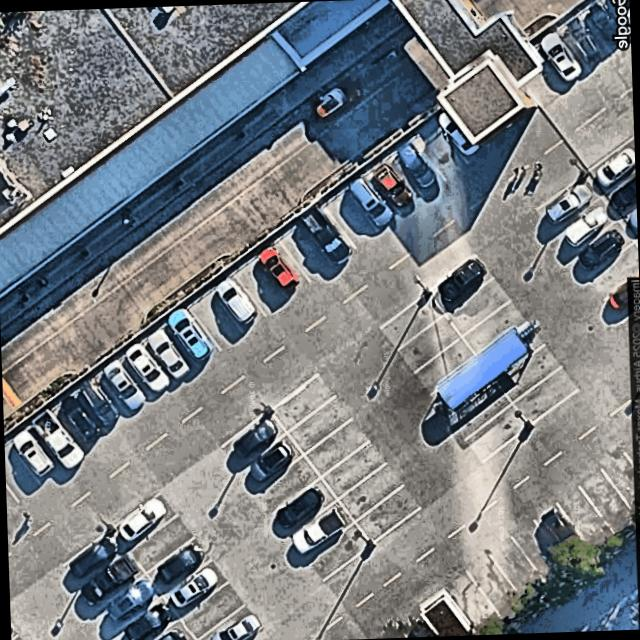car: (29, 406, 87, 471), (77, 551, 140, 609), (299, 204, 356, 266), (288, 503, 348, 557), (164, 305, 218, 362), (345, 174, 398, 230), (123, 340, 175, 397), (100, 575, 159, 625), (99, 355, 150, 412), (558, 200, 616, 250), (432, 254, 488, 305), (538, 507, 586, 566), (144, 326, 194, 382), (69, 532, 124, 582), (537, 29, 586, 85), (210, 273, 260, 327), (243, 436, 296, 486), (55, 391, 104, 445), (118, 596, 178, 640), (165, 564, 221, 611), (367, 159, 416, 212), (9, 425, 57, 479), (115, 496, 170, 543), (73, 376, 120, 430), (272, 484, 326, 530), (541, 179, 595, 225), (393, 138, 439, 192), (433, 107, 479, 159), (589, 140, 635, 191), (154, 542, 206, 585), (579, 226, 627, 272), (231, 417, 280, 458), (256, 245, 299, 291), (205, 608, 265, 640), (583, 1, 624, 45), (562, 18, 601, 62), (607, 175, 636, 214), (610, 274, 639, 312), (605, 0, 630, 31), (150, 623, 189, 640)
lot_boundary: (4, 0, 640, 640)
objects: (431, 315, 548, 415), (415, 588, 483, 636)
stall: (466, 554, 531, 626), (532, 505, 597, 576), (557, 487, 621, 559), (488, 538, 552, 610), (511, 521, 575, 593), (579, 472, 640, 543), (443, 569, 507, 634), (338, 461, 401, 520), (308, 522, 371, 581), (257, 454, 320, 513), (270, 373, 333, 431), (305, 417, 368, 475), (322, 440, 385, 498), (355, 485, 418, 543), (290, 500, 353, 558), (287, 395, 350, 453), (274, 477, 337, 535), (241, 432, 304, 490), (223, 410, 286, 468), (163, 561, 226, 618), (82, 551, 145, 608), (65, 529, 128, 586), (467, 403, 530, 460), (398, 314, 461, 371), (513, 367, 576, 424), (449, 380, 512, 437), (129, 517, 192, 573), (146, 538, 209, 594), (180, 583, 243, 639), (110, 494, 173, 550), (381, 292, 444, 348), (99, 575, 162, 631), (445, 280, 508, 336), (427, 258, 490, 314), (496, 344, 558, 400), (299, 205, 356, 265), (188, 291, 245, 350), (540, 175, 600, 230), (574, 219, 634, 274), (556, 197, 615, 252), (461, 302, 521, 356), (165, 310, 221, 367), (232, 256, 288, 313), (73, 378, 129, 435), (255, 242, 311, 298), (211, 274, 267, 330), (50, 394, 106, 450), (121, 343, 177, 399), (323, 188, 379, 244), (27, 411, 83, 467), (410, 123, 466, 179), (389, 140, 445, 196), (415, 336, 473, 390), (277, 224, 332, 280), (143, 327, 198, 383), (98, 361, 153, 417), (536, 30, 589, 87), (557, 14, 610, 71), (367, 158, 422, 212), (9, 427, 61, 483), (117, 595, 180, 640), (347, 175, 399, 227), (580, 0, 630, 54), (602, 453, 640, 524), (198, 603, 265, 640), (588, 139, 635, 191), (432, 112, 478, 162), (594, 240, 638, 292), (4, 441, 42, 500), (607, 267, 639, 314), (605, 170, 636, 217), (604, 0, 630, 37), (152, 620, 195, 640)
